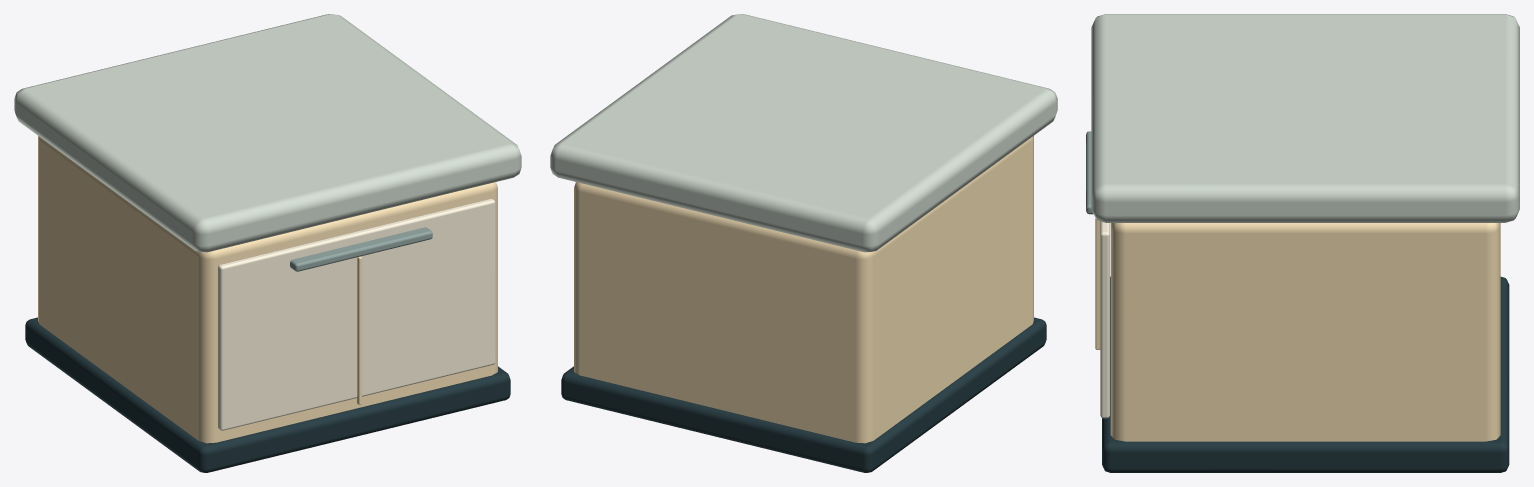
File: counter.glb
3 views of the same model, side by side, from view 1: azimuth 30°, elevation 25°; view 2: azimuth 150°, elevation 25°; view 3: azimuth 270°, elevation 25° (orthographic). The views are drawn at different scales.
Parts seen in each view (by area): view 1: counter; view 2: counter; view 3: counter.
Boxes of the visible parts, x1,y1,x2,y2 form: counter: [14, 14, 521, 472]; counter: [550, 14, 1057, 472]; counter: [1086, 14, 1519, 472].
Bounding box in the file's own units: 1 × 0.75 × 1.01.
